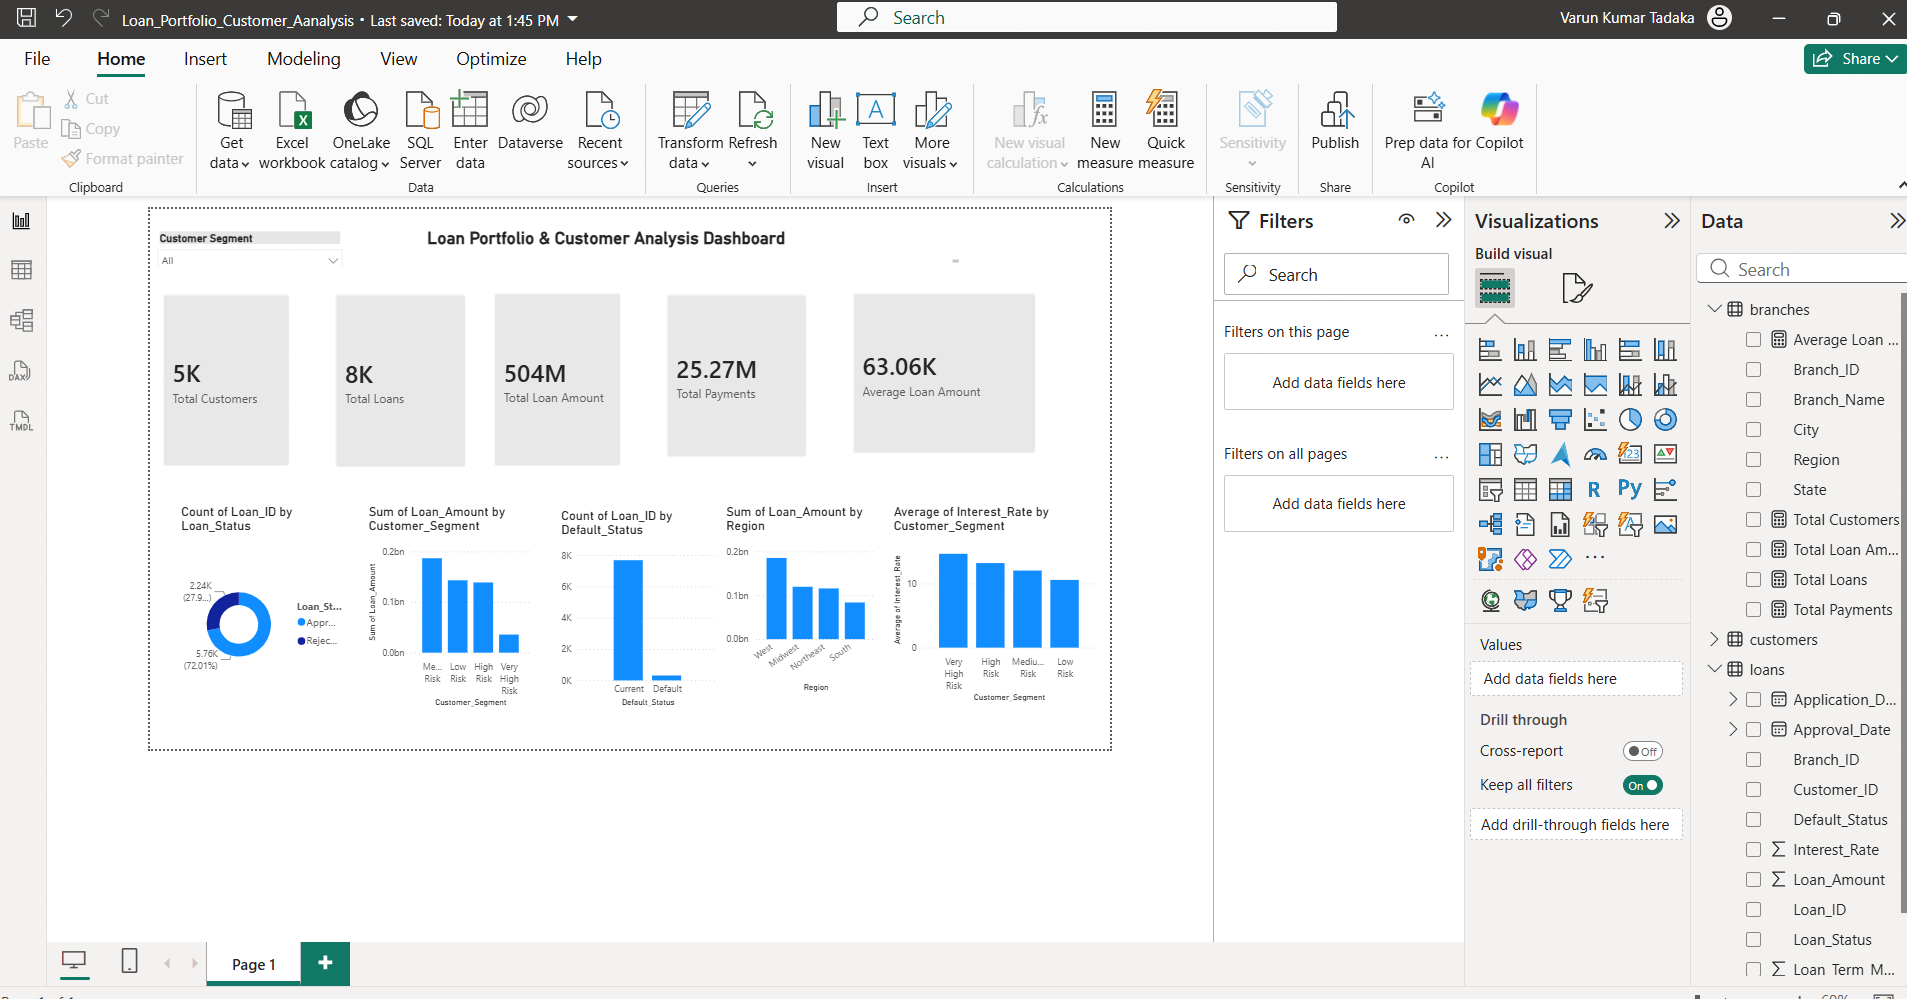

This screenshot's page, from the dashboard's own definition file:
{"tool":"powerbi","page":{"name":"Page 1","canvas":[1280,720],"ordinal":0},"visuals":[{"type":"cardVisual","fields":{"Data":["branches.Total Customers"]},"box":[0,96.7,203.3,263.3],"z":1},{"type":"cardVisual","fields":{"Data":["branches.Total Loans"]},"box":[230,96.7,208.3,265],"z":2},{"type":"cardVisual","fields":{"Data":["branches.Total Loan Amount"]},"box":[441.7,95,203.3,265],"z":3},{"type":"cardVisual","fields":{"Data":["branches.Total Payments"]},"box":[671.7,96.7,221.7,251.7],"z":4},{"type":"donutChart","fields":{"Category":["loans.Loan_Status"],"Y":["CountNonNull(loans.Loan_ID)"]},"box":[36.7,393.3,230,271.7],"z":5},{"type":"clusteredColumnChart","fields":{"Category":["customers.Customer_Segment"],"Y":["Sum(loans.Loan_Amount)"]},"box":[286.7,393.3,225,275],"z":6},{"type":"clusteredColumnChart","fields":{"Category":["loans.Default_Status"],"Y":["CountNonNull(loans.Loan_ID)"]},"box":[543.3,398.3,218.3,270],"z":7},{"type":"clusteredColumnChart","fields":{"Category":["branches.Region"],"Y":["Sum(loans.Loan_Amount)"]},"box":[763.3,393.3,210,255],"z":8},{"type":"clusteredColumnChart","fields":{"Category":["customers.Customer_Segment"],"Y":["Avg(loans.Interest_Rate)"]},"box":[986.7,393.3,278.3,268.3],"z":9},{"type":"textbox","title":"Loan Portfolio & Customer Analysis Dashboard","box":[133.3,25,950,51.7],"z":10},{"type":"slicer","fields":{"Values":["customers.Customer_Segment"]},"box":[0,25,266.7,51.7],"z":11},{"type":"cardVisual","fields":{"Data":["branches.Average Loan Amount"]},"box":[920,95,278.3,248.3],"z":12}]}

Visuals, with their boxes on the page's 1280x720 design canvas (x1, y1, x2, y2). These are canvas units, not pixel positions in the 1907x999 screenshot, which may show the page scaled, cropped or inside an application window:
cardVisual - branches.Total Customers: 0 97 203 360
cardVisual - branches.Total Loans: 230 97 438 362
cardVisual - branches.Total Loan Amount: 442 95 645 360
cardVisual - branches.Total Payments: 672 97 893 348
donutChart - loans.Loan_Status x CountNonNull(loans.Loan_ID): 37 393 267 665
clusteredColumnChart - customers.Customer_Segment x Sum(loans.Loan_Amount): 287 393 512 668
clusteredColumnChart - loans.Default_Status x CountNonNull(loans.Loan_ID): 543 398 762 668
clusteredColumnChart - branches.Region x Sum(loans.Loan_Amount): 763 393 973 648
clusteredColumnChart - customers.Customer_Segment x Avg(loans.Interest_Rate): 987 393 1265 662
"Loan Portfolio & Customer Analysis Dashboard" textbox: 133 25 1083 77
slicer - customers.Customer_Segment: 0 25 267 77
cardVisual - branches.Average Loan Amount: 920 95 1198 343
